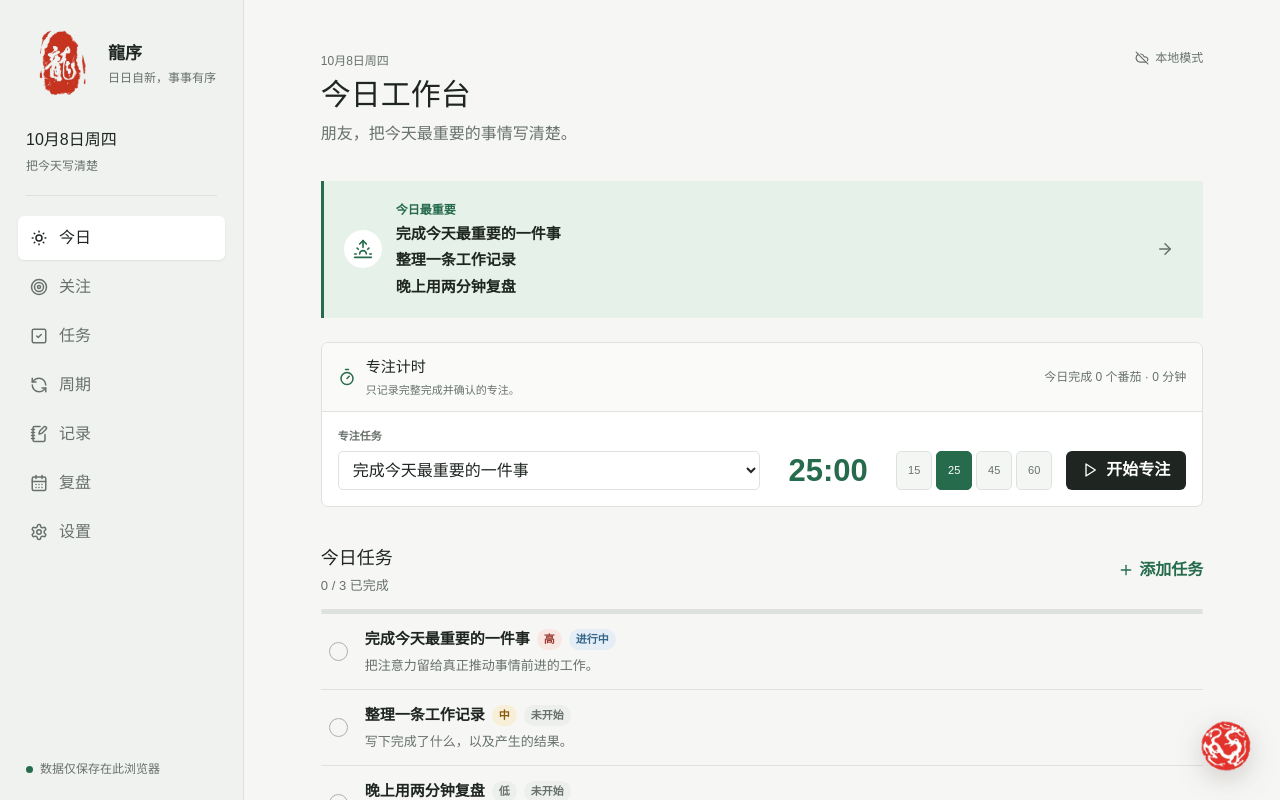
Test: workbench navigation › creates a thought and inspiration record
The width and height of the screenshot is (1280, 800).
Expected: the heading "今日工作台" is shown, [321,78,471,111]
Step 1. Click the button "记录" → (122, 434), box [18,412,225,456]
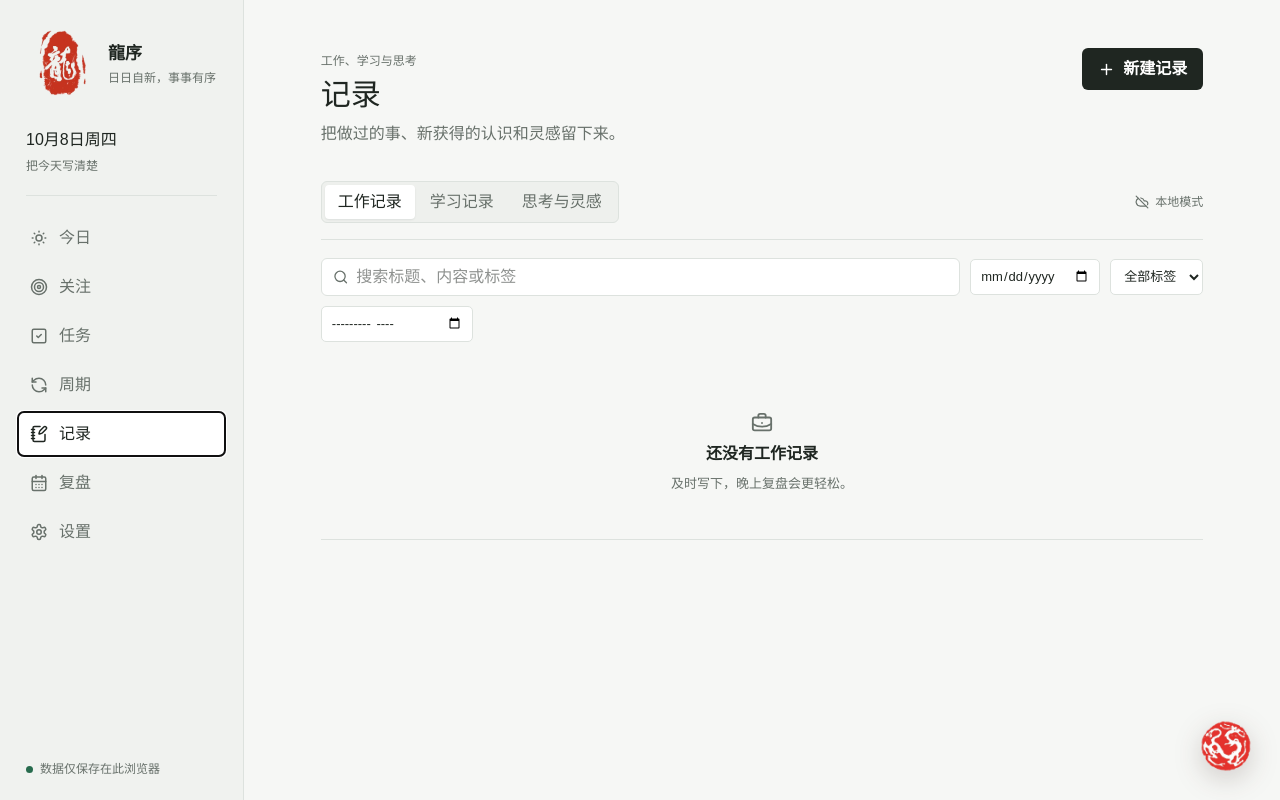
Step 2. Click the button "思考与灵感" → (562, 202), box [509,185,615,219]
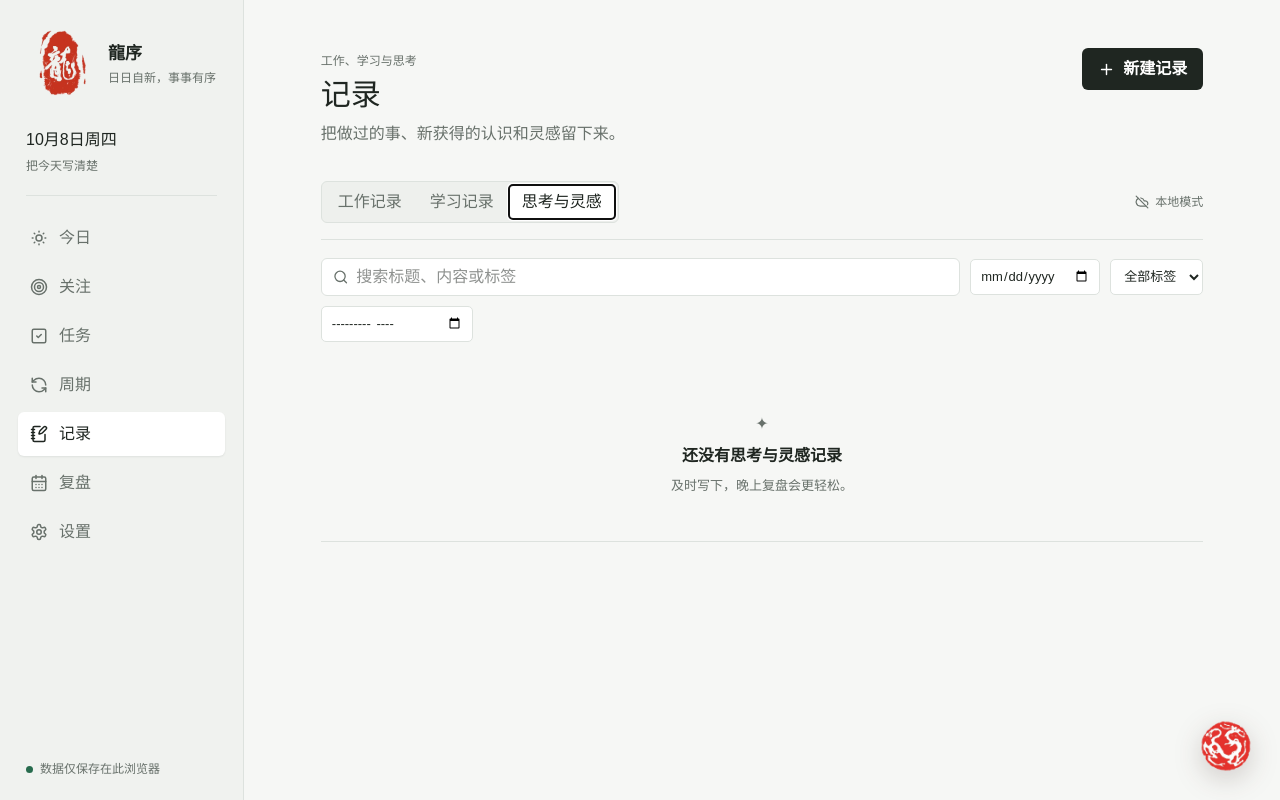
Step 3. Click the button "新建记录" → (1143, 69), box [1082,48,1203,90]
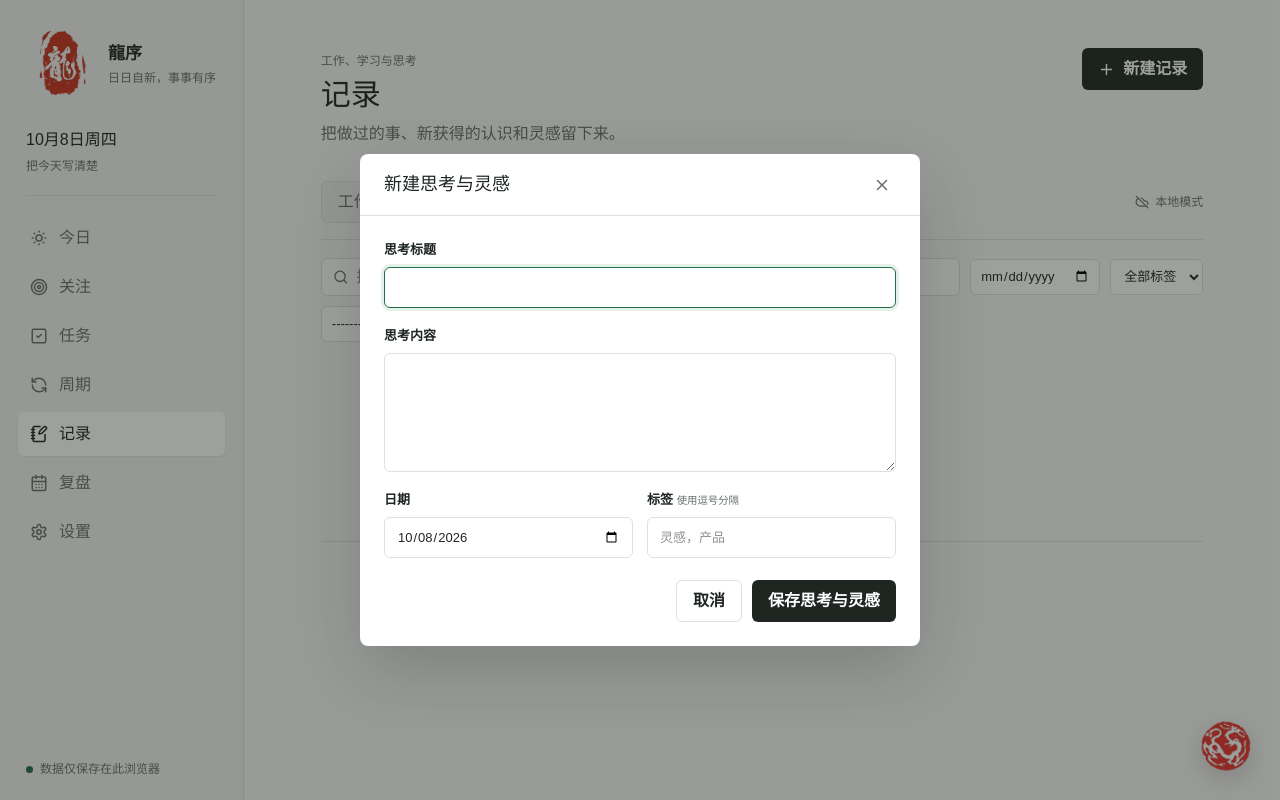
Step 4. Type "新的产品想法" into the field labelled "思考标题" → (640, 287), box [384,266,896,308]
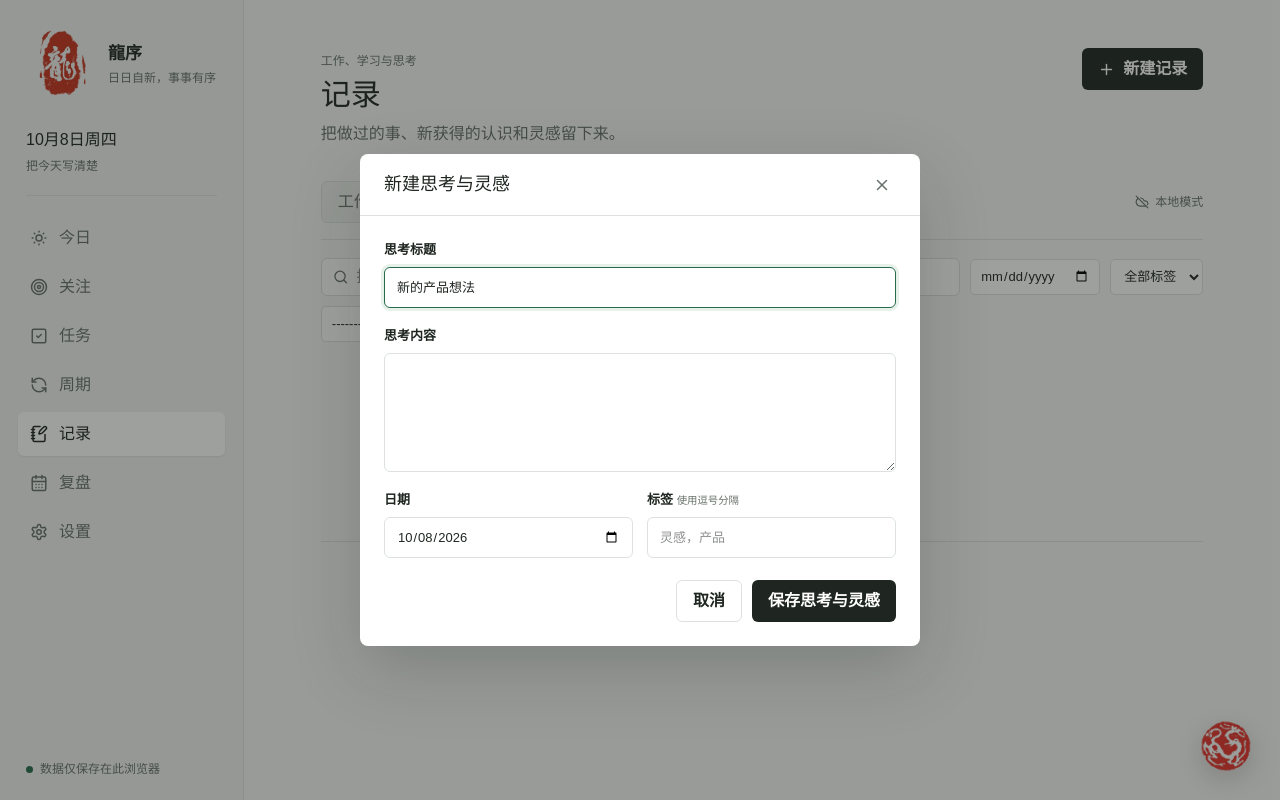
Step 5. Type "把零散想法先留下来" into the text box labelled "思考内容" → (640, 412), box [384,352,896,472]
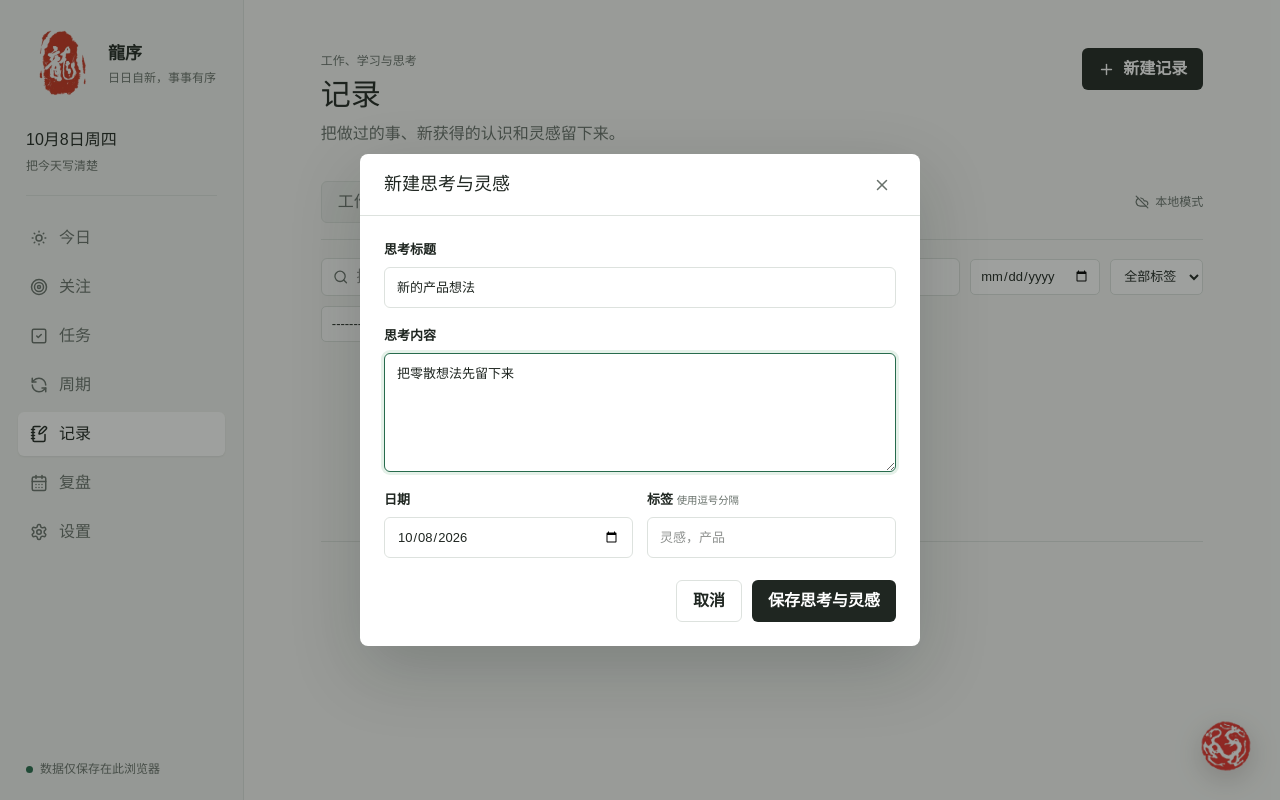
Step 6. Click the button "保存思考与灵感" → (824, 601), box [752,580,896,622]
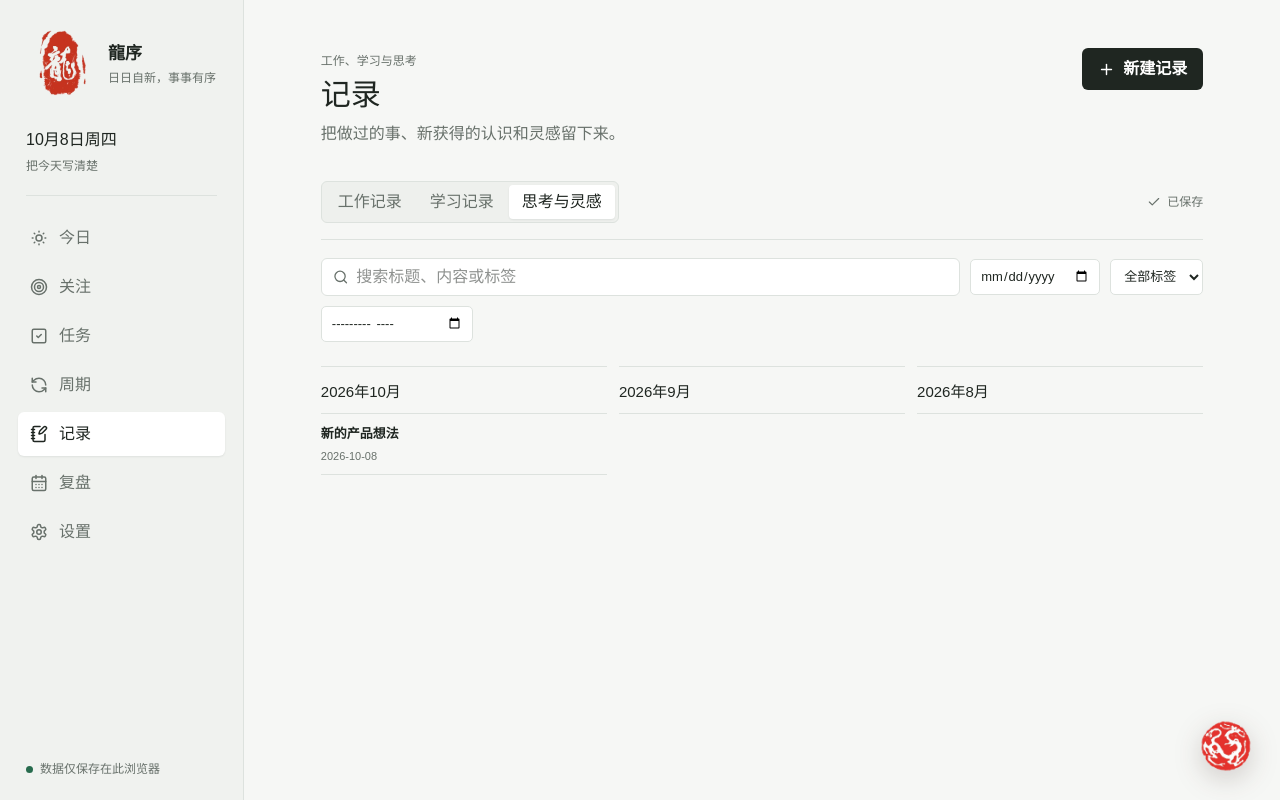
Result: the button "思考与灵感" is shown at [509,185,615,219]
Result: the text "新的产品想法" is shown at [321,424,399,444]
